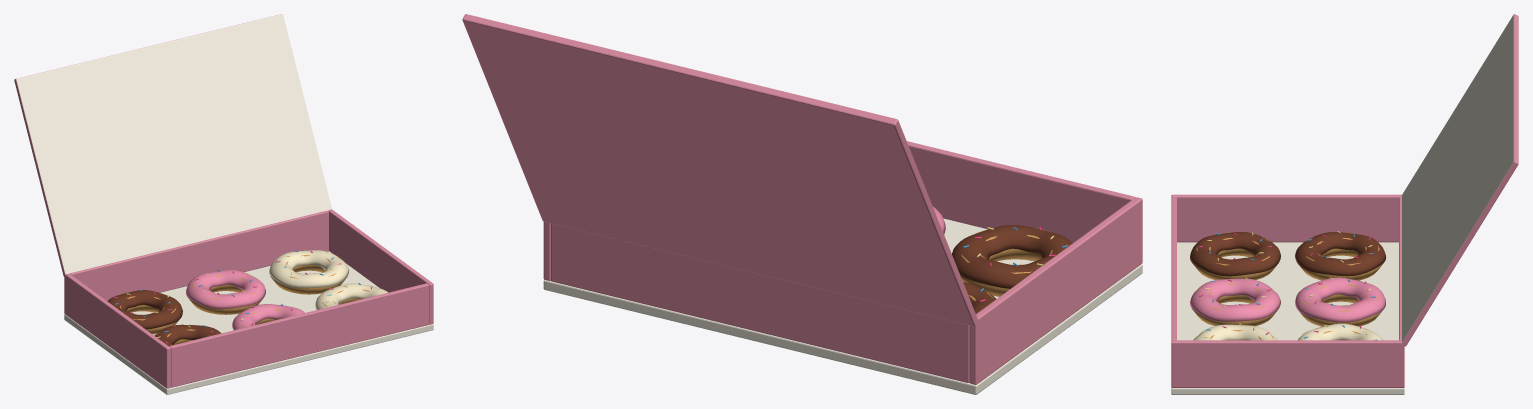
Rendered from box_donuts.glb.
3 renders of one model, left to right at view 1: azimuth 30°, elevation 25°; view 2: azimuth 150°, elevation 25°; view 3: azimuth 270°, elevation 25°, orthographic. The views are drawn at different scales.
Visible parts, largest first — view 1: Open hinged box lid, Front or back cardboard wall, Front or back cardboard wall.001, Open box floor, Side cardboard wall, Side cardboard wall.001, Donut 5 frosting cap, Donut 6 frosting cap, Donut 4 frosting cap, Donut 3 frosting cap, Donut 2 frosting cap, Donut 1 frosting cap (+3 smaller); view 2: Open hinged box lid, Front or back cardboard wall.001, Side cardboard wall, Front or back cardboard wall, Open box floor, Donut 1 frosting cap, Donut 1 baked ring; view 3: Open hinged box lid, Side cardboard wall.001, Side cardboard wall, Open box floor, Donut 1 frosting cap, Donut 5 frosting cap, Donut 2 frosting cap, Donut 4 frosting cap, Donut 3 frosting cap, Donut 6 frosting cap, Front or back cardboard wall, Donut 2 baked ring (+4 smaller).
Boxes of the visible parts, x1=… form: Open hinged box lid: x1=14, y1=14, x2=331, y2=276; Front or back cardboard wall: x1=169, y1=283, x2=429, y2=387; Front or back cardboard wall.001: x1=70, y1=210, x2=328, y2=301; Open box floor: x1=64, y1=251, x2=433, y2=394; Side cardboard wall: x1=64, y1=273, x2=170, y2=388; Side cardboard wall.001: x1=328, y1=209, x2=433, y2=324; Donut 5 frosting cap: x1=186, y1=270, x2=265, y2=309; Donut 6 frosting cap: x1=269, y1=250, x2=349, y2=288; Donut 4 frosting cap: x1=107, y1=290, x2=182, y2=329; Donut 3 frosting cap: x1=315, y1=283, x2=387, y2=309; Donut 2 frosting cap: x1=232, y1=304, x2=304, y2=330; Donut 1 frosting cap: x1=154, y1=324, x2=220, y2=346; Open hinged box lid: x1=462, y1=14, x2=978, y2=326; Front or back cardboard wall.001: x1=551, y1=223, x2=969, y2=382; Side cardboard wall: x1=969, y1=197, x2=1142, y2=384; Front or back cardboard wall: x1=907, y1=141, x2=1135, y2=242; Open box floor: x1=543, y1=218, x2=1142, y2=394; Donut 1 frosting cap: x1=952, y1=225, x2=1072, y2=288; Donut 1 baked ring: x1=961, y1=228, x2=1052, y2=296; Open hinged box lid: x1=1402, y1=14, x2=1518, y2=346; Side cardboard wall.001: x1=1171, y1=340, x2=1404, y2=387; Side cardboard wall: x1=1171, y1=194, x2=1401, y2=242; Open box floor: x1=1171, y1=242, x2=1404, y2=394; Donut 1 frosting cap: x1=1190, y1=231, x2=1280, y2=276; Donut 5 frosting cap: x1=1295, y1=277, x2=1385, y2=322; Donut 2 frosting cap: x1=1190, y1=278, x2=1280, y2=321; Donut 4 frosting cap: x1=1295, y1=232, x2=1385, y2=276; Donut 3 frosting cap: x1=1193, y1=324, x2=1277, y2=340; Donut 6 frosting cap: x1=1298, y1=323, x2=1383, y2=340; Front or back cardboard wall: x1=1171, y1=197, x2=1176, y2=340; Donut 2 baked ring: x1=1191, y1=278, x2=1279, y2=326.
Size of the model in its own units: 0.36 by 0.2648 by 0.3571.
